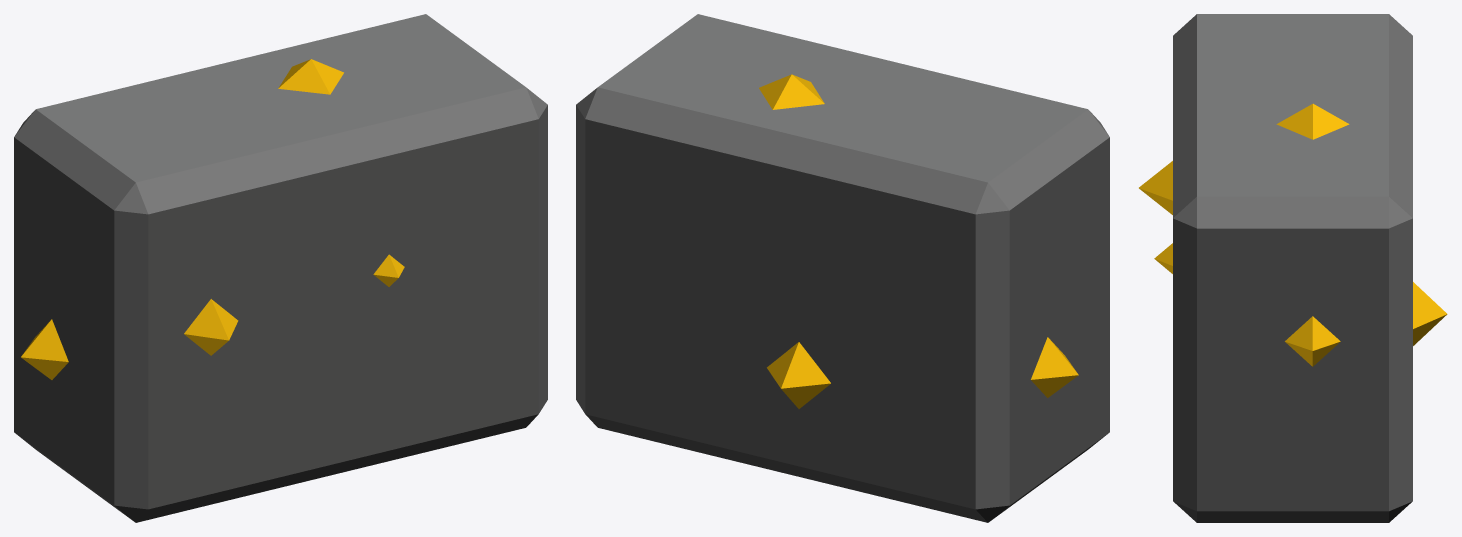
File: m_kub_ore_halfMid.FBX
The picture shows the model from 3 angles, left to right: view 1: azimuth 30°, elevation 25°; view 2: azimuth 150°, elevation 25°; view 3: azimuth 270°, elevation 25°; orthographic projection. The views are drawn at different scales.
Parts seen in each view (by area): view 1: m_kub_ore_halfMid; view 2: m_kub_ore_halfMid; view 3: m_kub_ore_halfMid.
Part boxes in pixels (x1=…): m_kub_ore_halfMid: x1=14, y1=14, x2=547, y2=522; m_kub_ore_halfMid: x1=576, y1=14, x2=1109, y2=522; m_kub_ore_halfMid: x1=1139, y1=14, x2=1447, y2=522.
Bounding box in the file's own units: 2.24 × 1.6 × 1.29.
